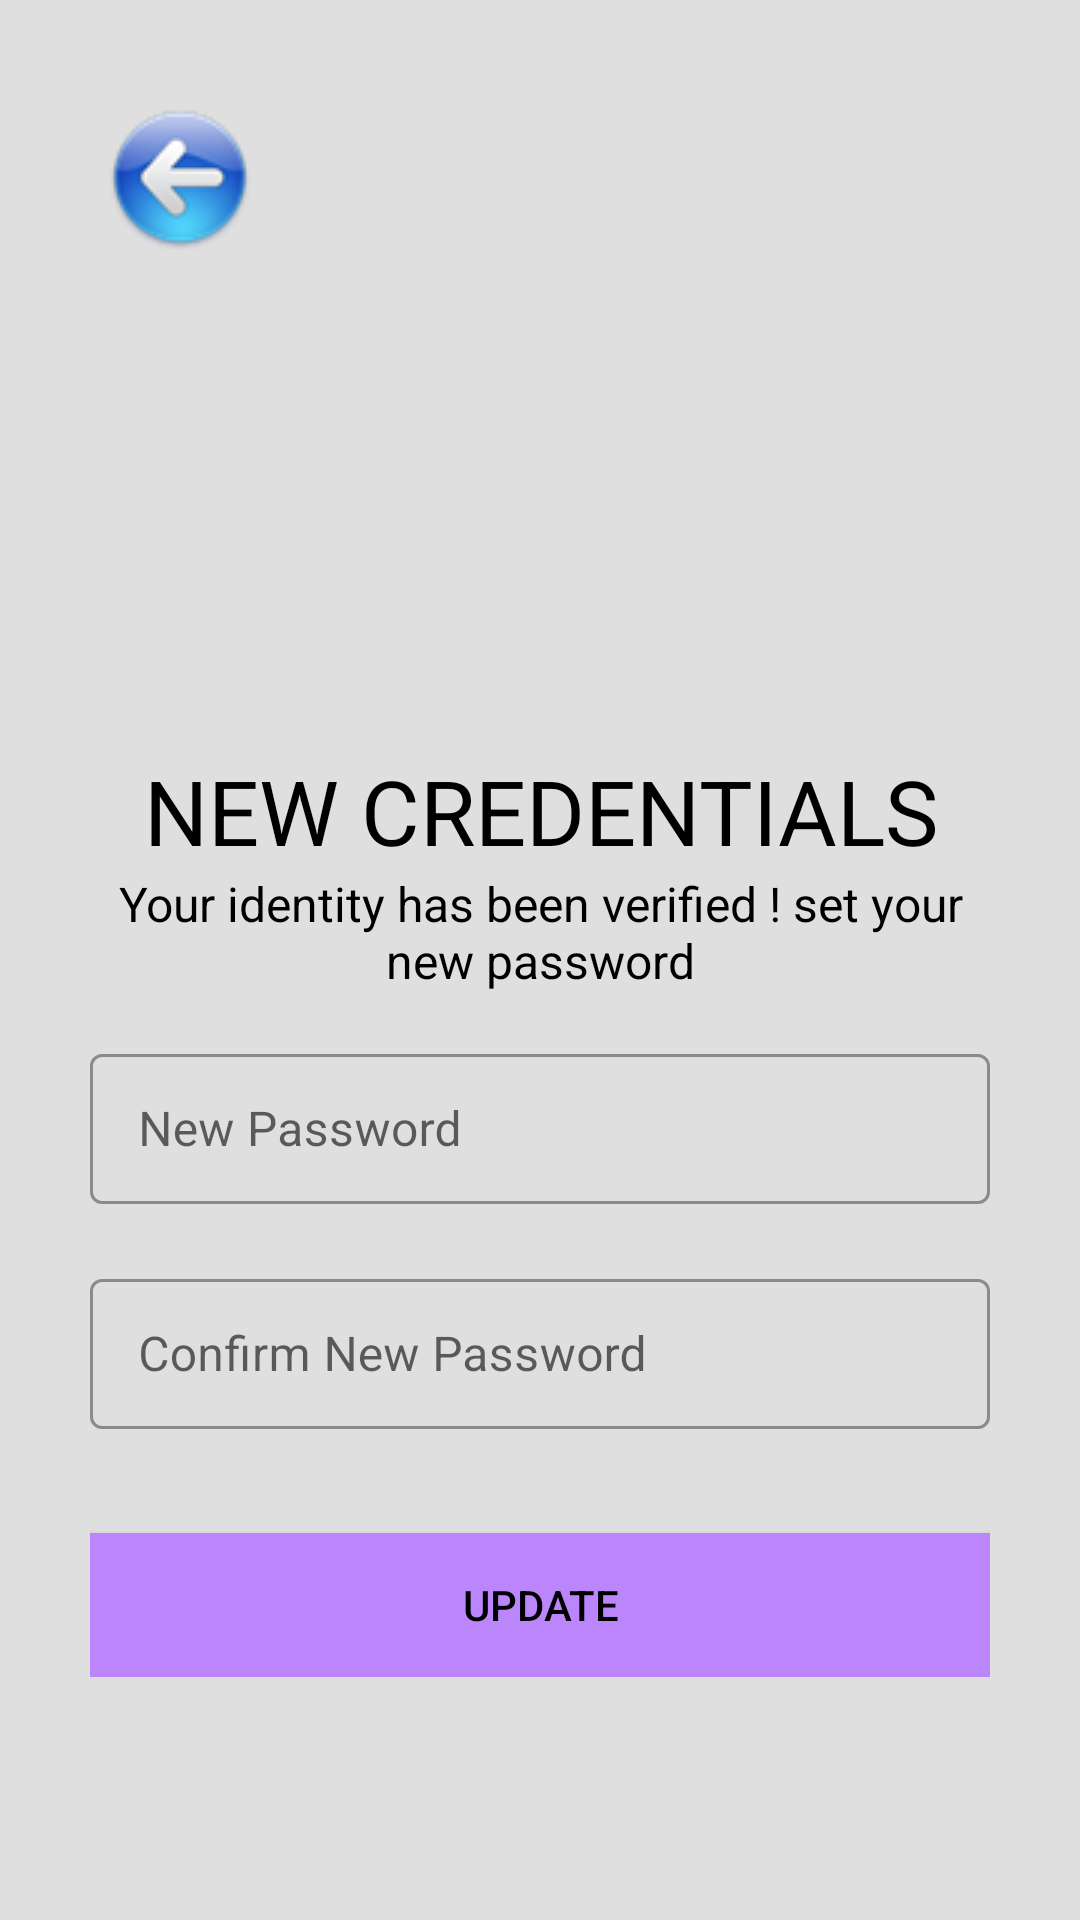

Named icons in this screenshot (1080px×1920px) and their bounding boxes, (x1, y1, x2, y2):
backicon: (113, 112, 247, 247)
